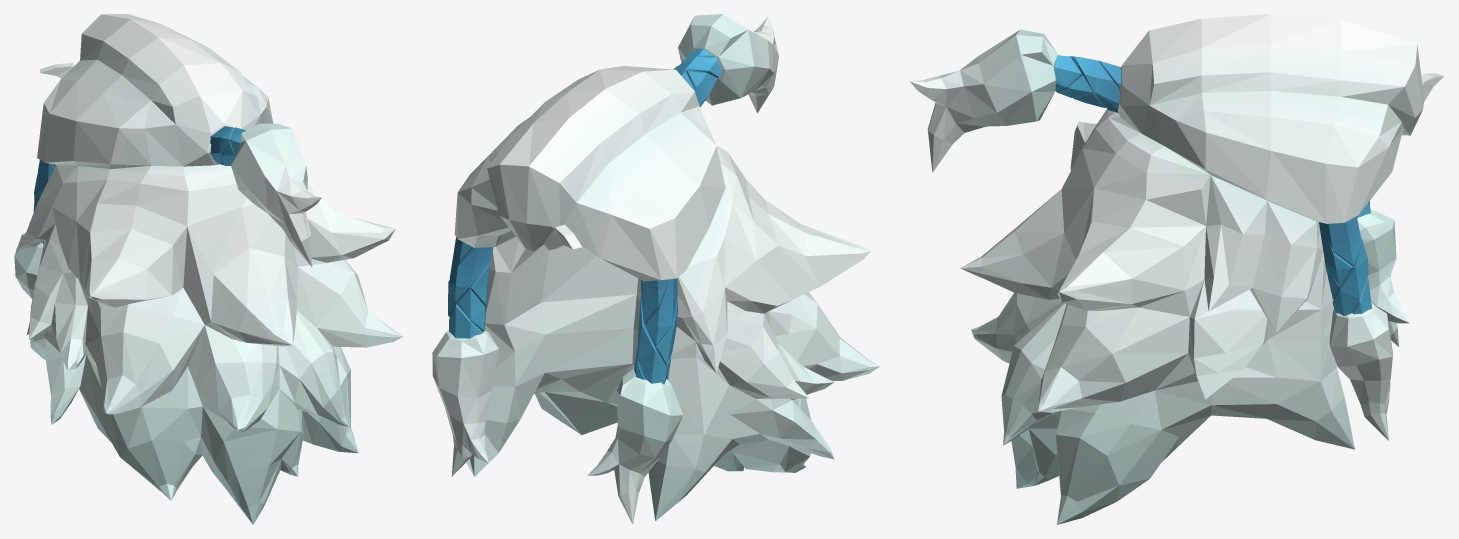
The model's file is CharSkyKid_Hair_AP12RuffledLong_01.glb.
3 renders of one model, left to right at view 1: azimuth 30°, elevation 25°; view 2: azimuth 150°, elevation 25°; view 3: azimuth 270°, elevation 25°, orthographic. The views are drawn at different scales.
Visible parts, largest first — view 1: CharSkyKid_Hair_AP12RuffledLong_01; view 2: CharSkyKid_Hair_AP12RuffledLong_01; view 3: CharSkyKid_Hair_AP12RuffledLong_01.
Boxes of the visible parts, box(x1,y1,x2,y2) form: CharSkyKid_Hair_AP12RuffledLong_01: box(14, 14, 402, 524); CharSkyKid_Hair_AP12RuffledLong_01: box(432, 14, 880, 524); CharSkyKid_Hair_AP12RuffledLong_01: box(909, 14, 1443, 524).
Size of the model in its own units: 4.18 by 5.39 by 5.42.
Materials: 1 (1 with a texture image).
